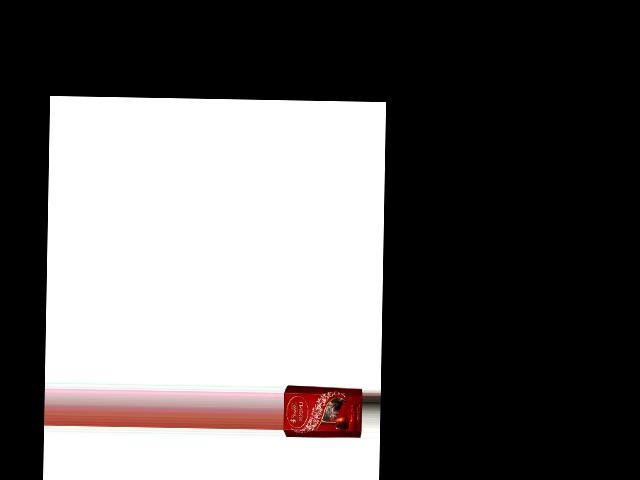chocolate: (283, 384, 363, 442)
